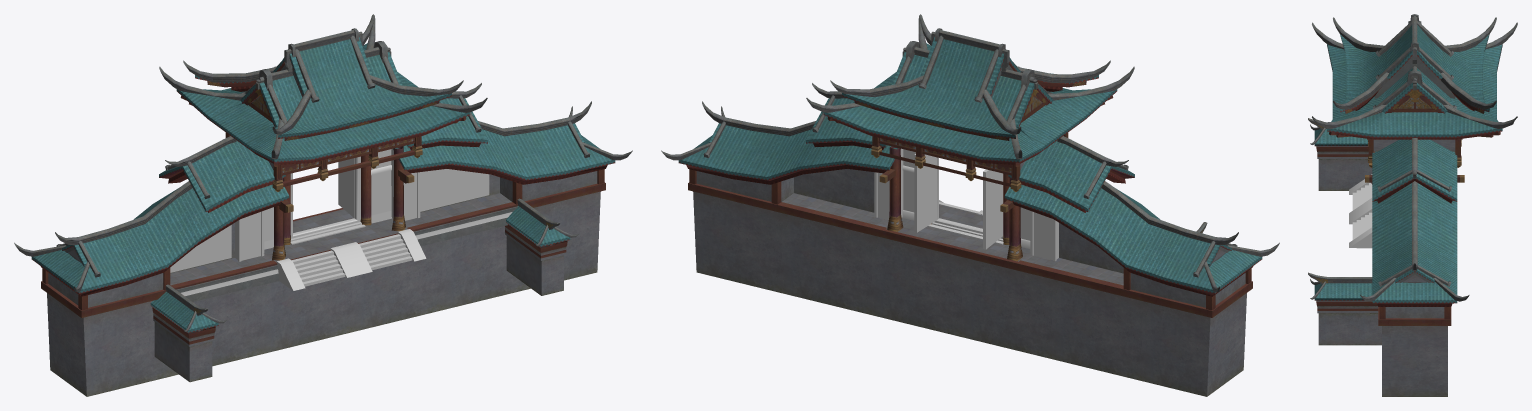
Rendered from Demo_door_001_lod2.FBX.
3 renders of one model, left to right at view 1: azimuth 30°, elevation 25°; view 2: azimuth 150°, elevation 25°; view 3: azimuth 270°, elevation 25°, orthographic. The views are drawn at different scales.
Visible parts, largest first — view 1: Demo_door_001_LOD2; view 2: Demo_door_001_LOD2; view 3: Demo_door_001_LOD2.
Boxes of the visible parts, x1,y1,x2,y2 form: Demo_door_001_LOD2: (14, 14, 632, 396); Demo_door_001_LOD2: (661, 14, 1279, 396); Demo_door_001_LOD2: (1308, 14, 1517, 396).
Size of the model in its own units: 5410 by 2633 by 1955.
